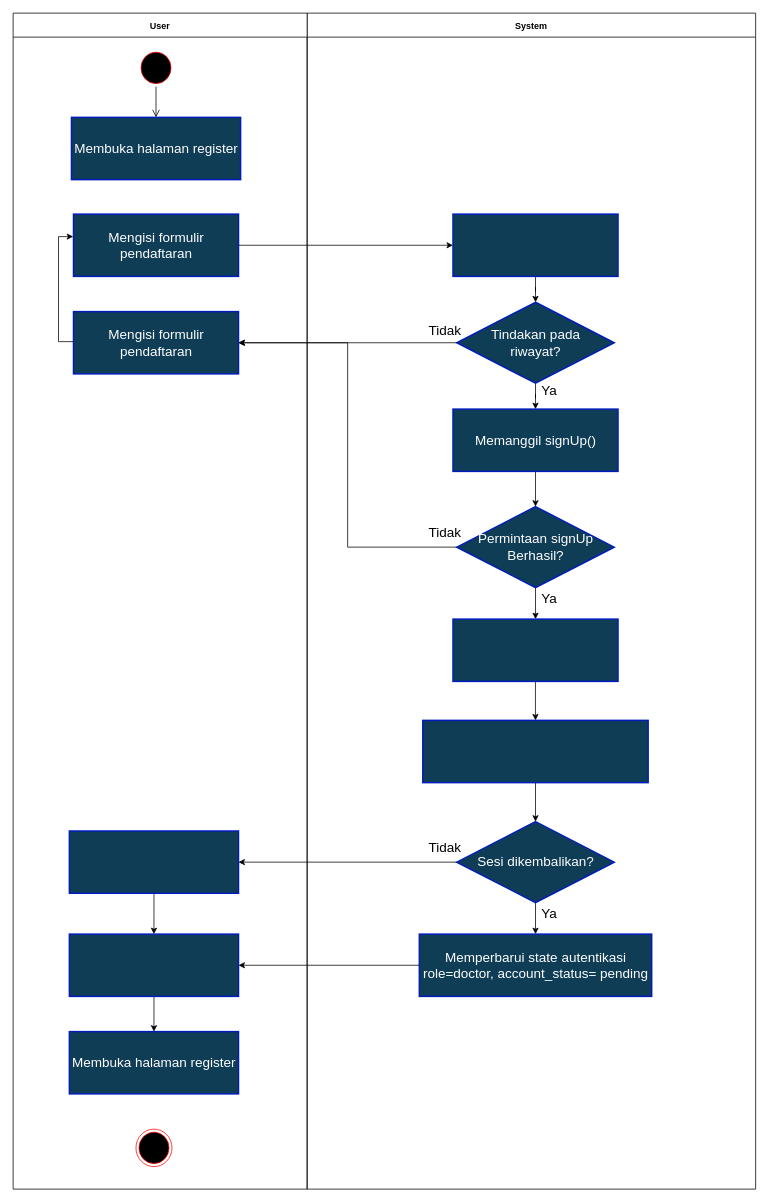
Some shapes in this 769 by 1202 pixel diagram are drawn without their labels. Each missing label, with the box of its shape:
Memvalidasi input: (452, 213, 618, 277)
Menampilkan instruksi konfirmasi email: (68, 830, 239, 894)
Menampilkan pesan pendaftaran berhasil: (68, 933, 239, 997)
Supabase membuat auth.users: (452, 618, 618, 682)
Trigger handle_new_doctor_signup INSERT doctor_profiles: (422, 719, 649, 783)
